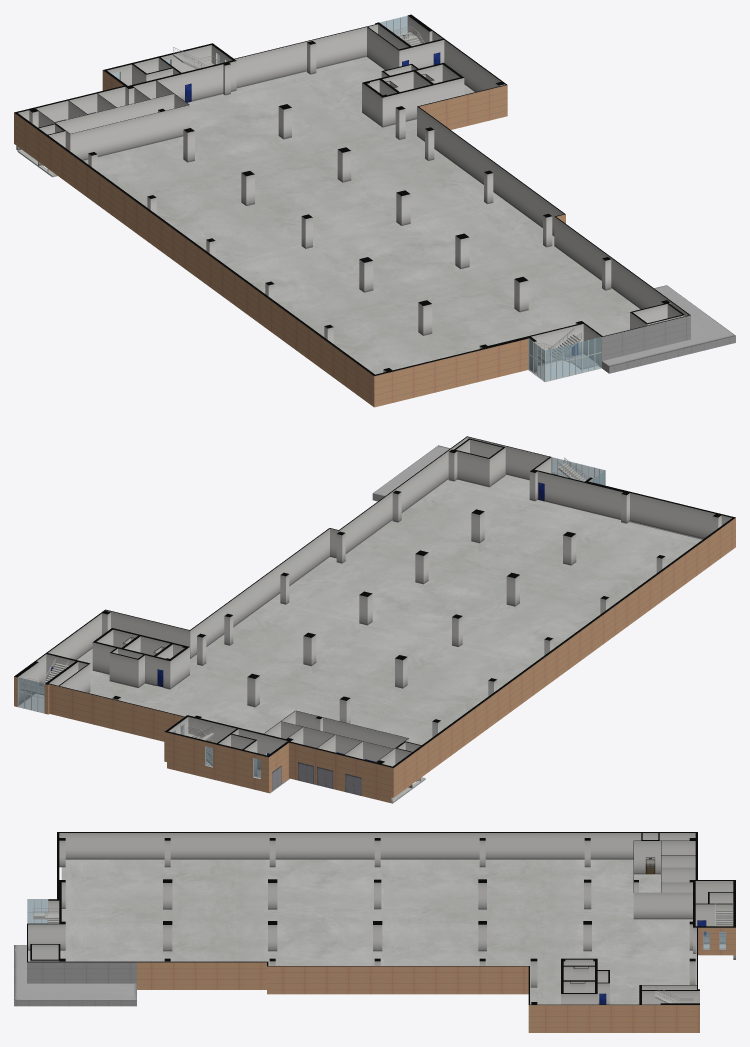
3 renders of one model, top to bottom at view 1: azimuth 30°, elevation 25°; view 2: azimuth 150°, elevation 25°; view 3: azimuth 270°, elevation 25°, orthographic. The views are drawn at different scales.
Visible parts, largest first — view 1: Line2469, RP2-2F, Line2470, Line2391, UTypeStair014; view 2: Line2469, RP2-2F, Line2391, Line2470; view 3: Line2469, RP2-2F, Line2470, Line2391, Line2253, UTypeStair016.
Boxes of the visible parts, x1,y1,x2,y2 form: Line2469: [83, 57, 640, 374]; RP2-2F: [14, 14, 690, 407]; Line2470: [602, 285, 735, 373]; Line2391: [112, 15, 601, 382]; UTypeStair014: [538, 334, 597, 369]; Line2469: [77, 474, 701, 745]; RP2-2F: [14, 436, 735, 803]; Line2391: [17, 457, 605, 778]; Line2470: [372, 445, 556, 501]; Line2469: [28, 859, 696, 1004]; RP2-2F: [27, 832, 735, 1032]; Line2470: [14, 945, 136, 1006]; Line2391: [27, 899, 725, 1003]; Line2253: [634, 874, 660, 892]; UTypeStair016: [704, 910, 732, 943].
Bounding box in the file's own units: 46.78 × 5.23 × 82.5.
Materials: 13 (11 with a texture image).
